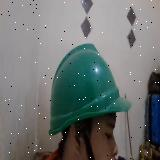Helmet: (47, 42, 132, 133)
